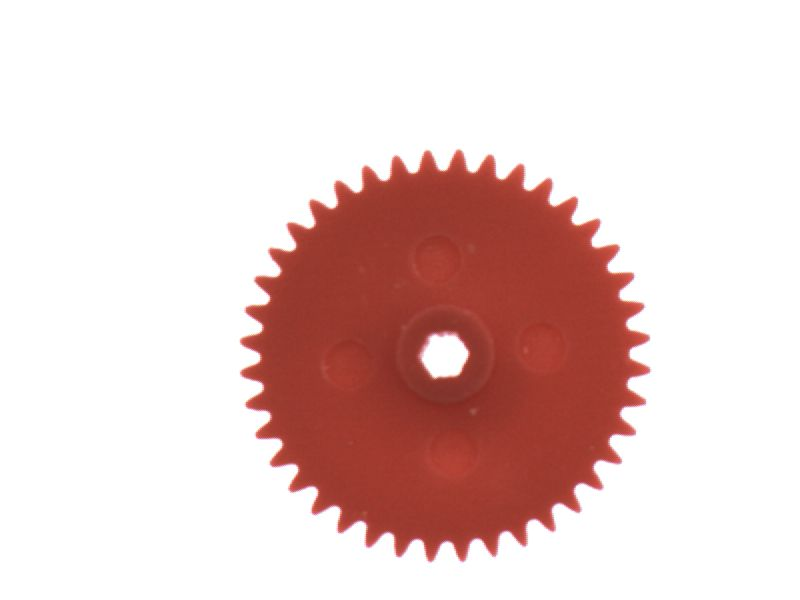good_product: (227, 137, 664, 570)
